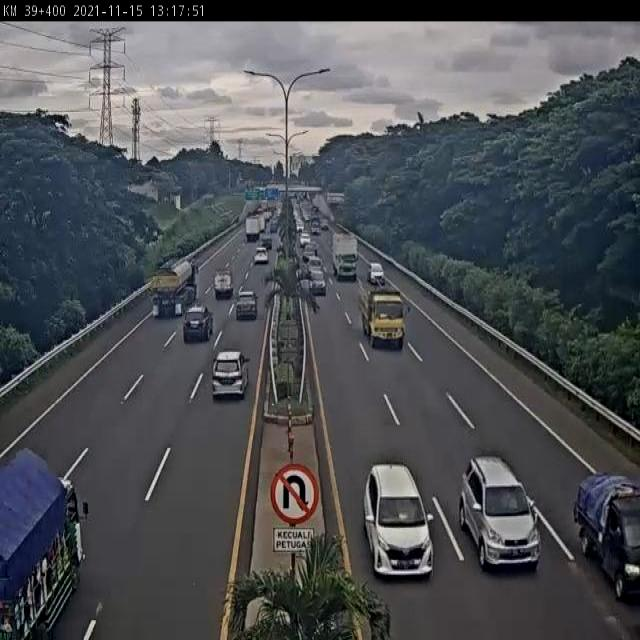Car: (564, 469, 639, 605), (461, 454, 538, 578), (356, 464, 438, 580), (210, 340, 251, 398), (177, 301, 217, 350), (235, 288, 258, 319), (308, 268, 326, 295), (367, 262, 385, 286), (254, 246, 269, 265), (299, 232, 311, 248), (312, 224, 321, 235), (302, 212, 310, 223), (296, 222, 303, 234), (321, 220, 328, 230)
Truck: (0, 438, 93, 626), (146, 255, 202, 316), (358, 285, 410, 345), (333, 231, 360, 276), (211, 265, 240, 297), (245, 216, 261, 243), (260, 231, 272, 249)
